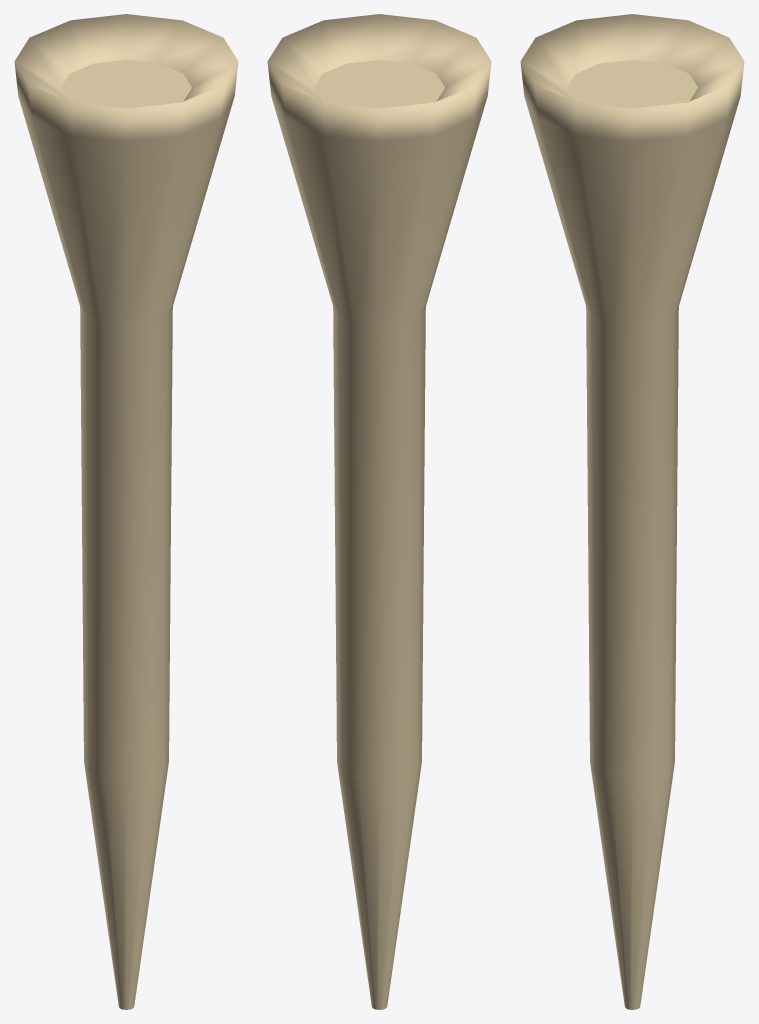
Rendered from peg.glb.
The picture shows the model from 3 angles, left to right: view 1: azimuth 30°, elevation 25°; view 2: azimuth 150°, elevation 25°; view 3: azimuth 270°, elevation 25°; orthographic projection.
Parts seen in each view (by area): view 1: X_peg; view 2: X_peg; view 3: X_peg.
Part boxes in pixels (x1,y1,x2,y2): X_peg: (14,14,238,1009); X_peg: (267,14,491,1009); X_peg: (520,14,744,1009).
Bounding box in the file's own units: 0.0116 × 0.054 × 0.0116.
